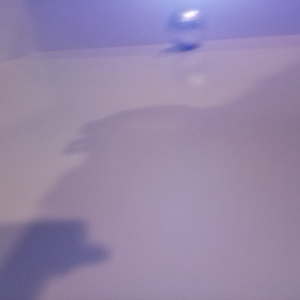alive_ball: (167, 6, 206, 48)
